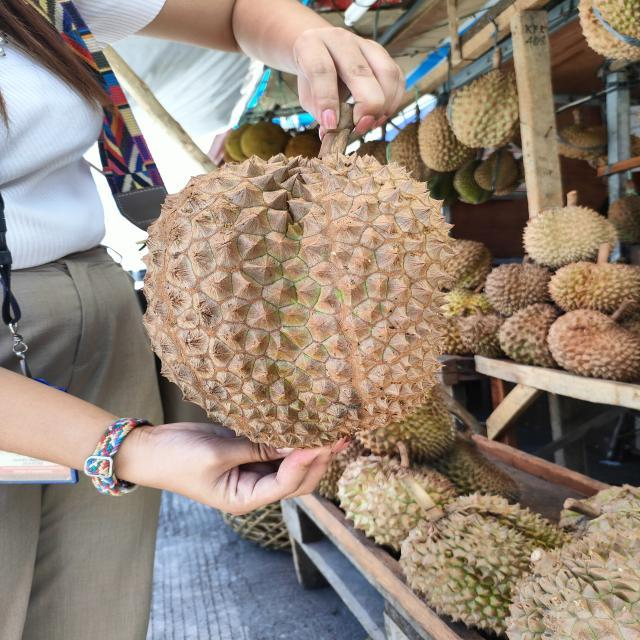mature: (144, 151, 454, 449)
